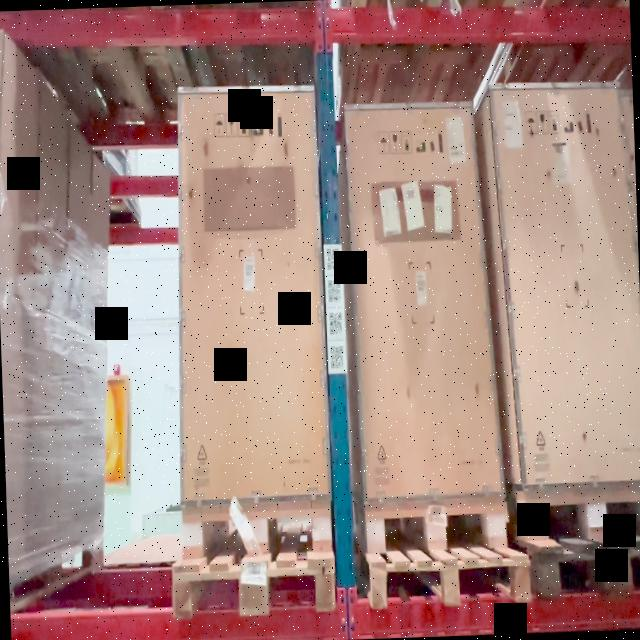box: (345, 103, 504, 502), (181, 85, 329, 508)
